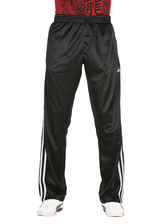clothoes: (38, 12, 128, 205)
shoes: (32, 198, 68, 217), (98, 201, 127, 219)
